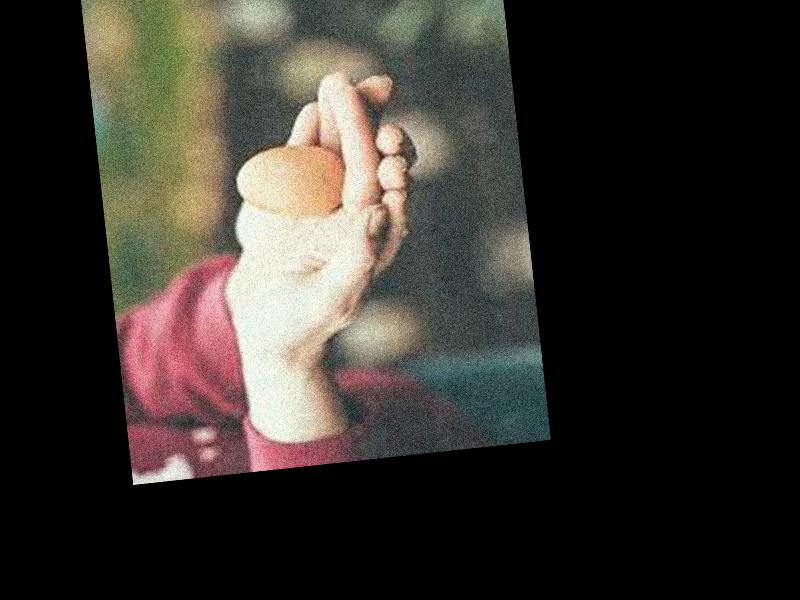Eggs: (233, 141, 346, 223)
